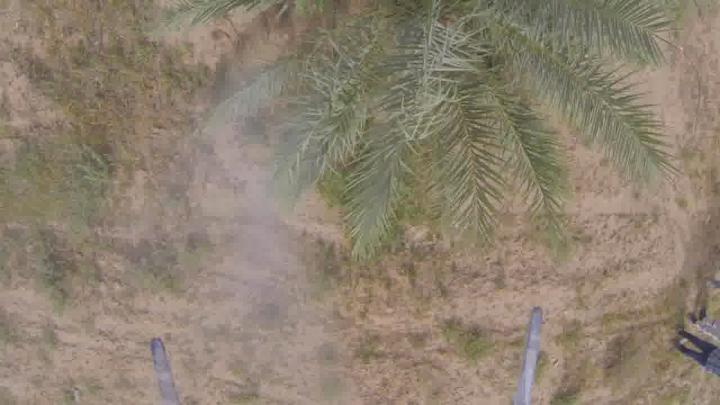Date-Palm-Crown: (264, 0, 596, 204)
